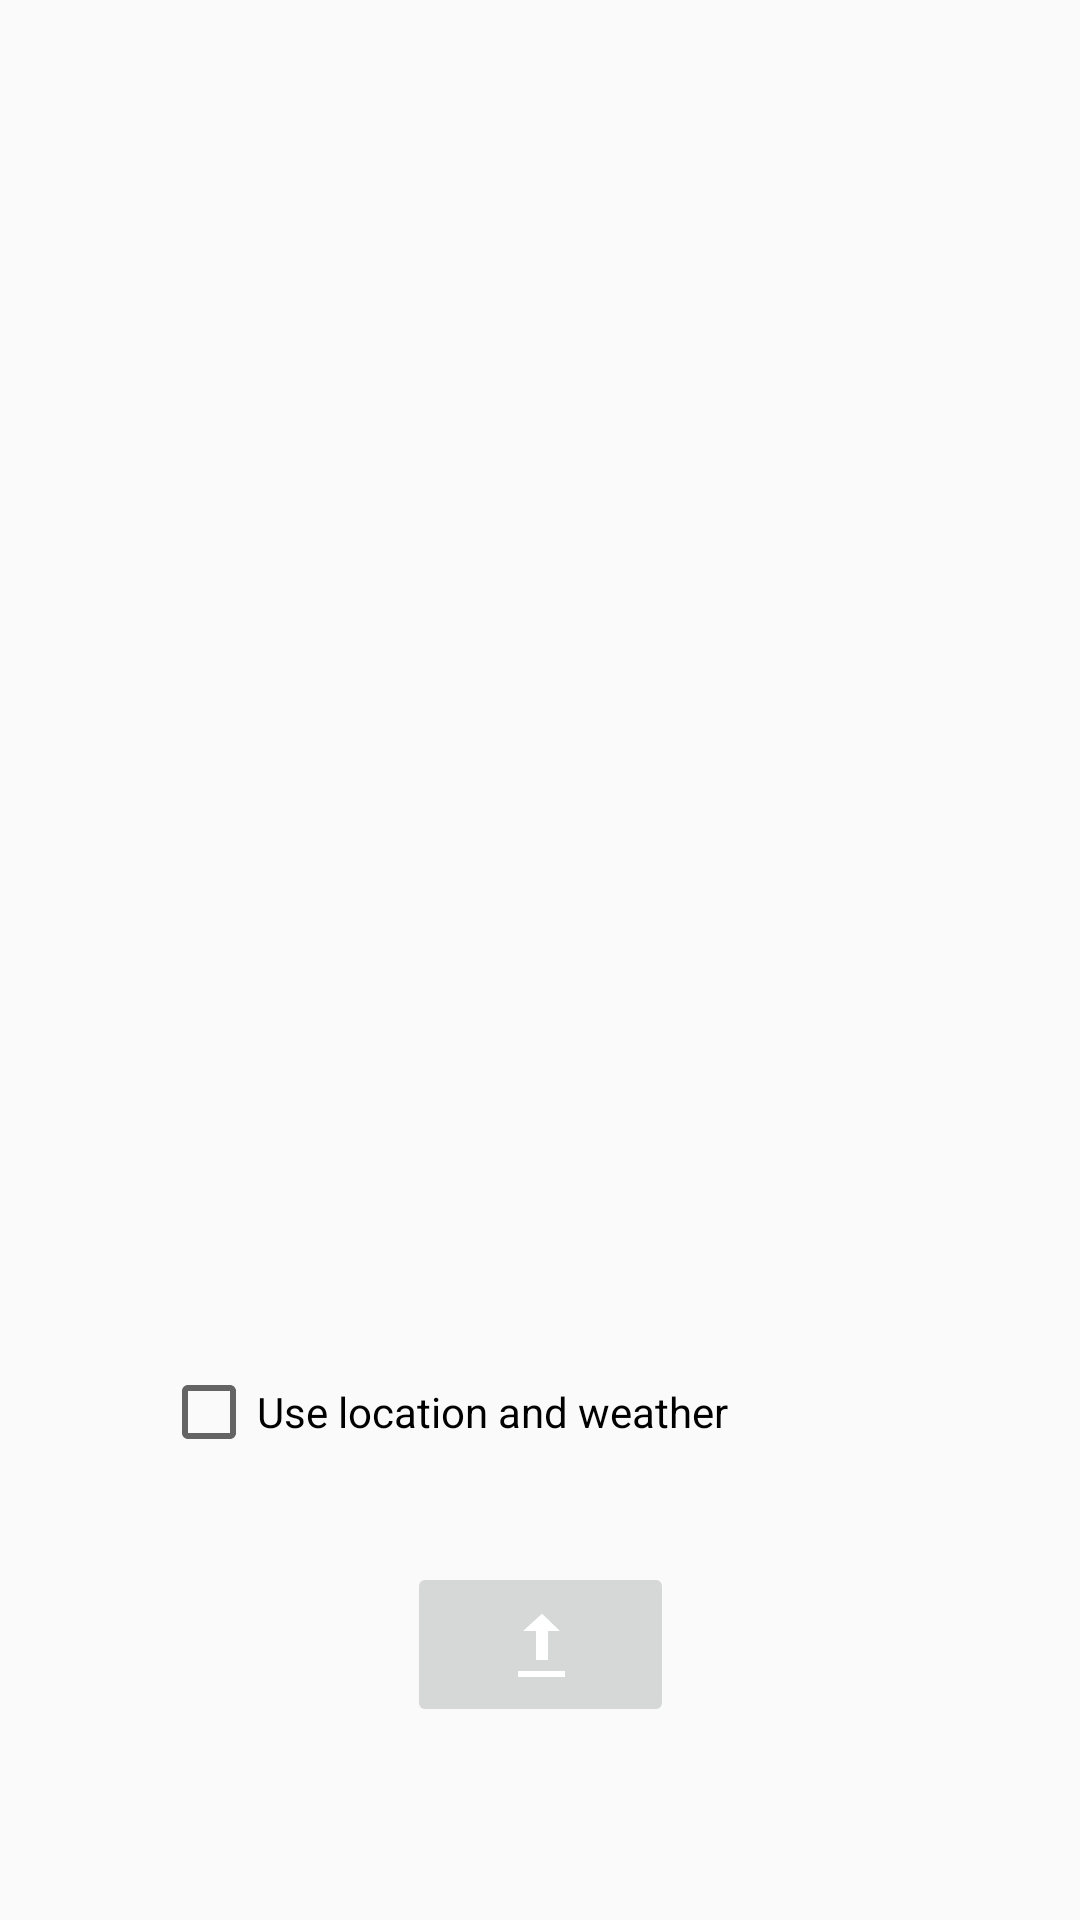

Icons on this 1080×1920 Android screen, each with its box as (x1, y1, x2, y2):
upload: (419, 1580, 662, 1709)
